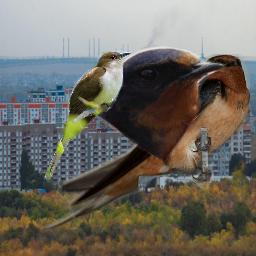Cuckoo: (44, 50, 132, 180)
Swallow: (36, 54, 250, 228), (94, 45, 228, 161)
